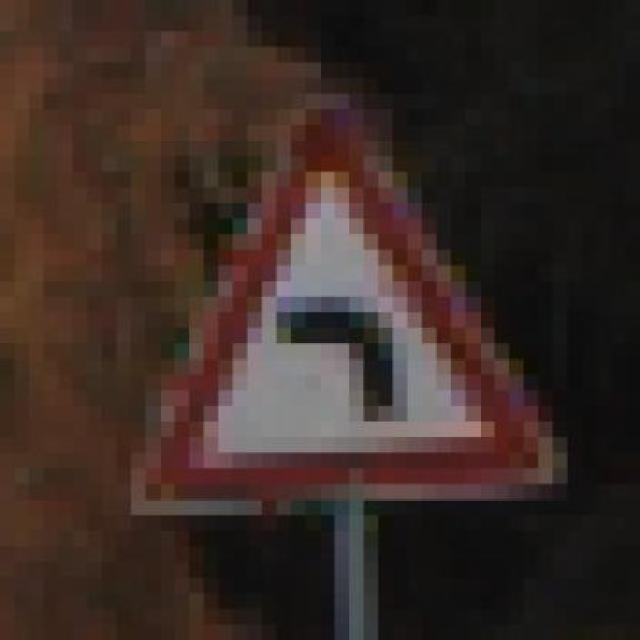Dangerous Left Curve Ahead: (116, 94, 582, 515)
